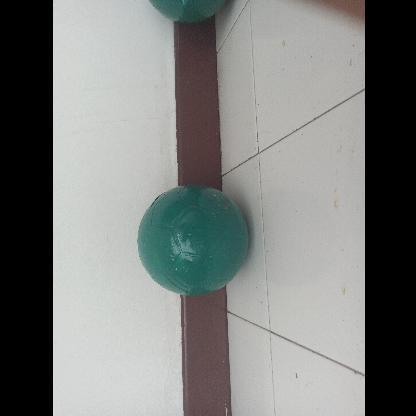green_ball: (132, 180, 248, 294)
